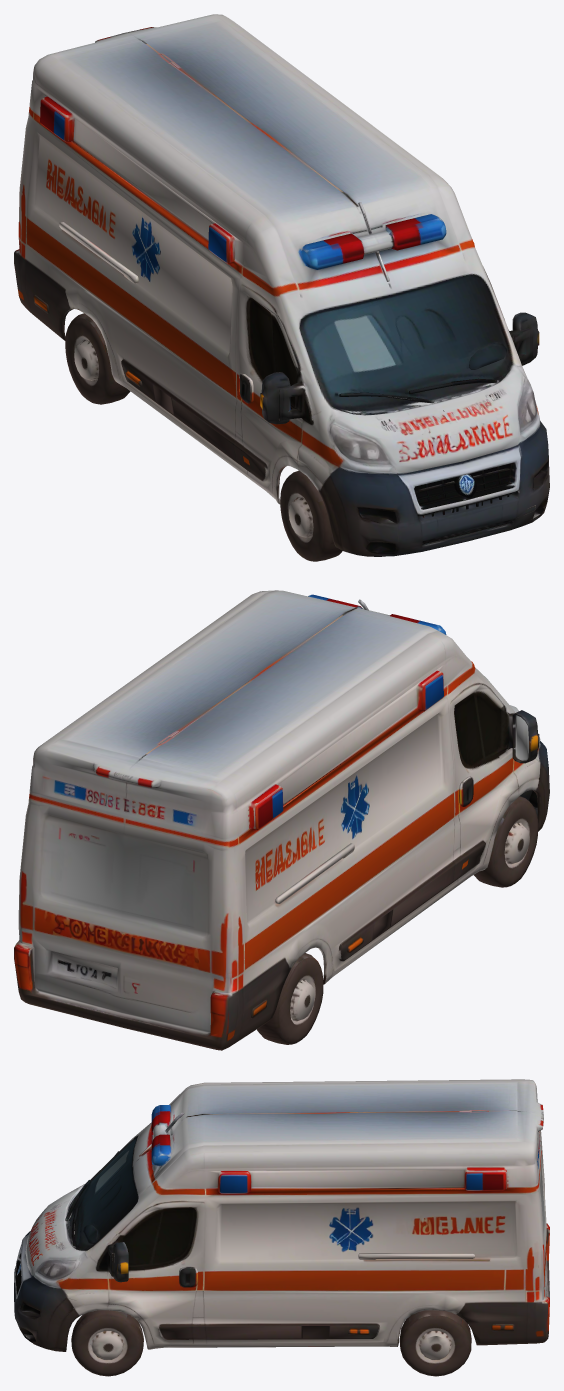
File: Medical__an_ambulance_dcfb4afb_v4.cluster.glb
The picture shows the model from 3 angles, top to bottom: view 1: azimuth 30°, elevation 25°; view 2: azimuth 150°, elevation 25°; view 3: azimuth 270°, elevation 25°; orthographic projection. The views are drawn at different scales.
Parts seen in each view (by area): view 1: material; view 2: material; view 3: material.
Boxes of the visible parts, <box> form: material: <box>14,14,549,561</box>; material: <box>14,590,549,1050</box>; material: <box>14,1079,549,1376</box>.
Size of the model in its own units: 0.8611 by 0.8904 by 1.9.
1 material, 1 textured.
